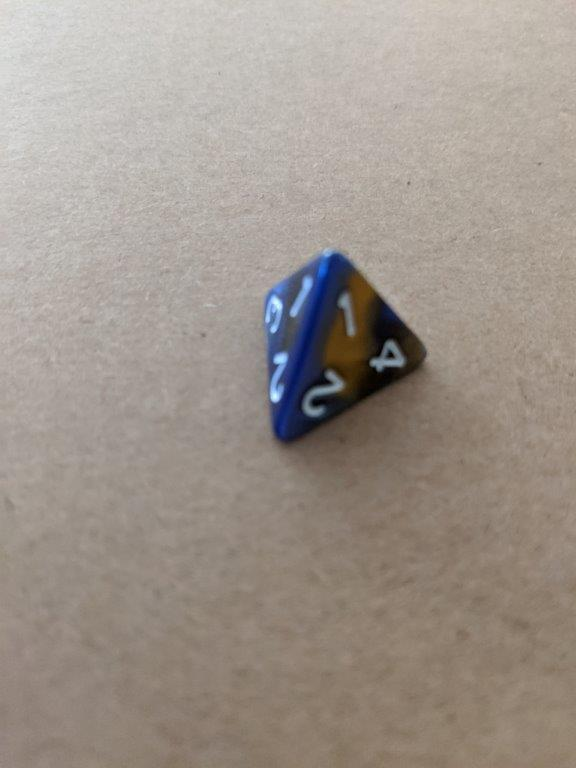d4-1: (256, 242, 432, 449)
